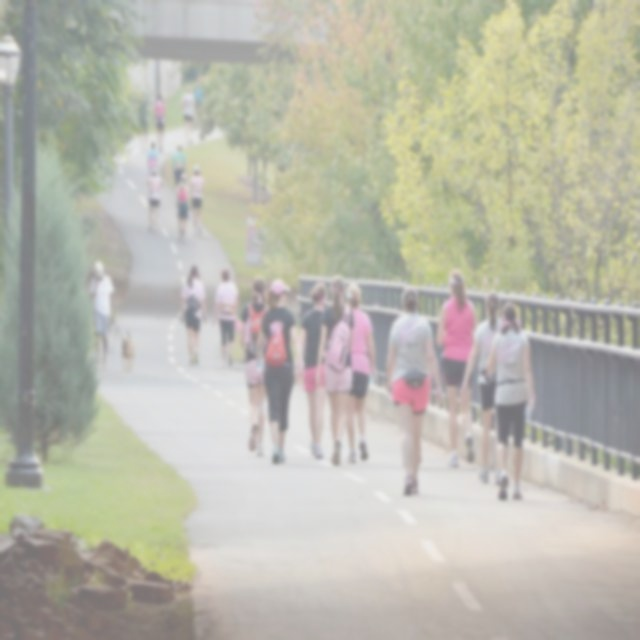pessoa: (382, 282, 446, 499), (483, 300, 537, 502), (252, 275, 304, 467), (457, 288, 505, 488), (434, 266, 480, 467), (314, 274, 356, 468), (291, 278, 328, 462), (345, 280, 379, 464), (238, 274, 270, 458), (86, 256, 115, 373), (178, 261, 208, 368), (210, 264, 240, 370), (144, 167, 166, 236), (173, 171, 191, 245), (178, 81, 196, 148), (188, 162, 204, 236), (192, 74, 209, 134), (154, 92, 168, 156), (138, 90, 149, 156), (171, 142, 186, 185), (146, 139, 160, 171), (175, 178, 188, 212)
